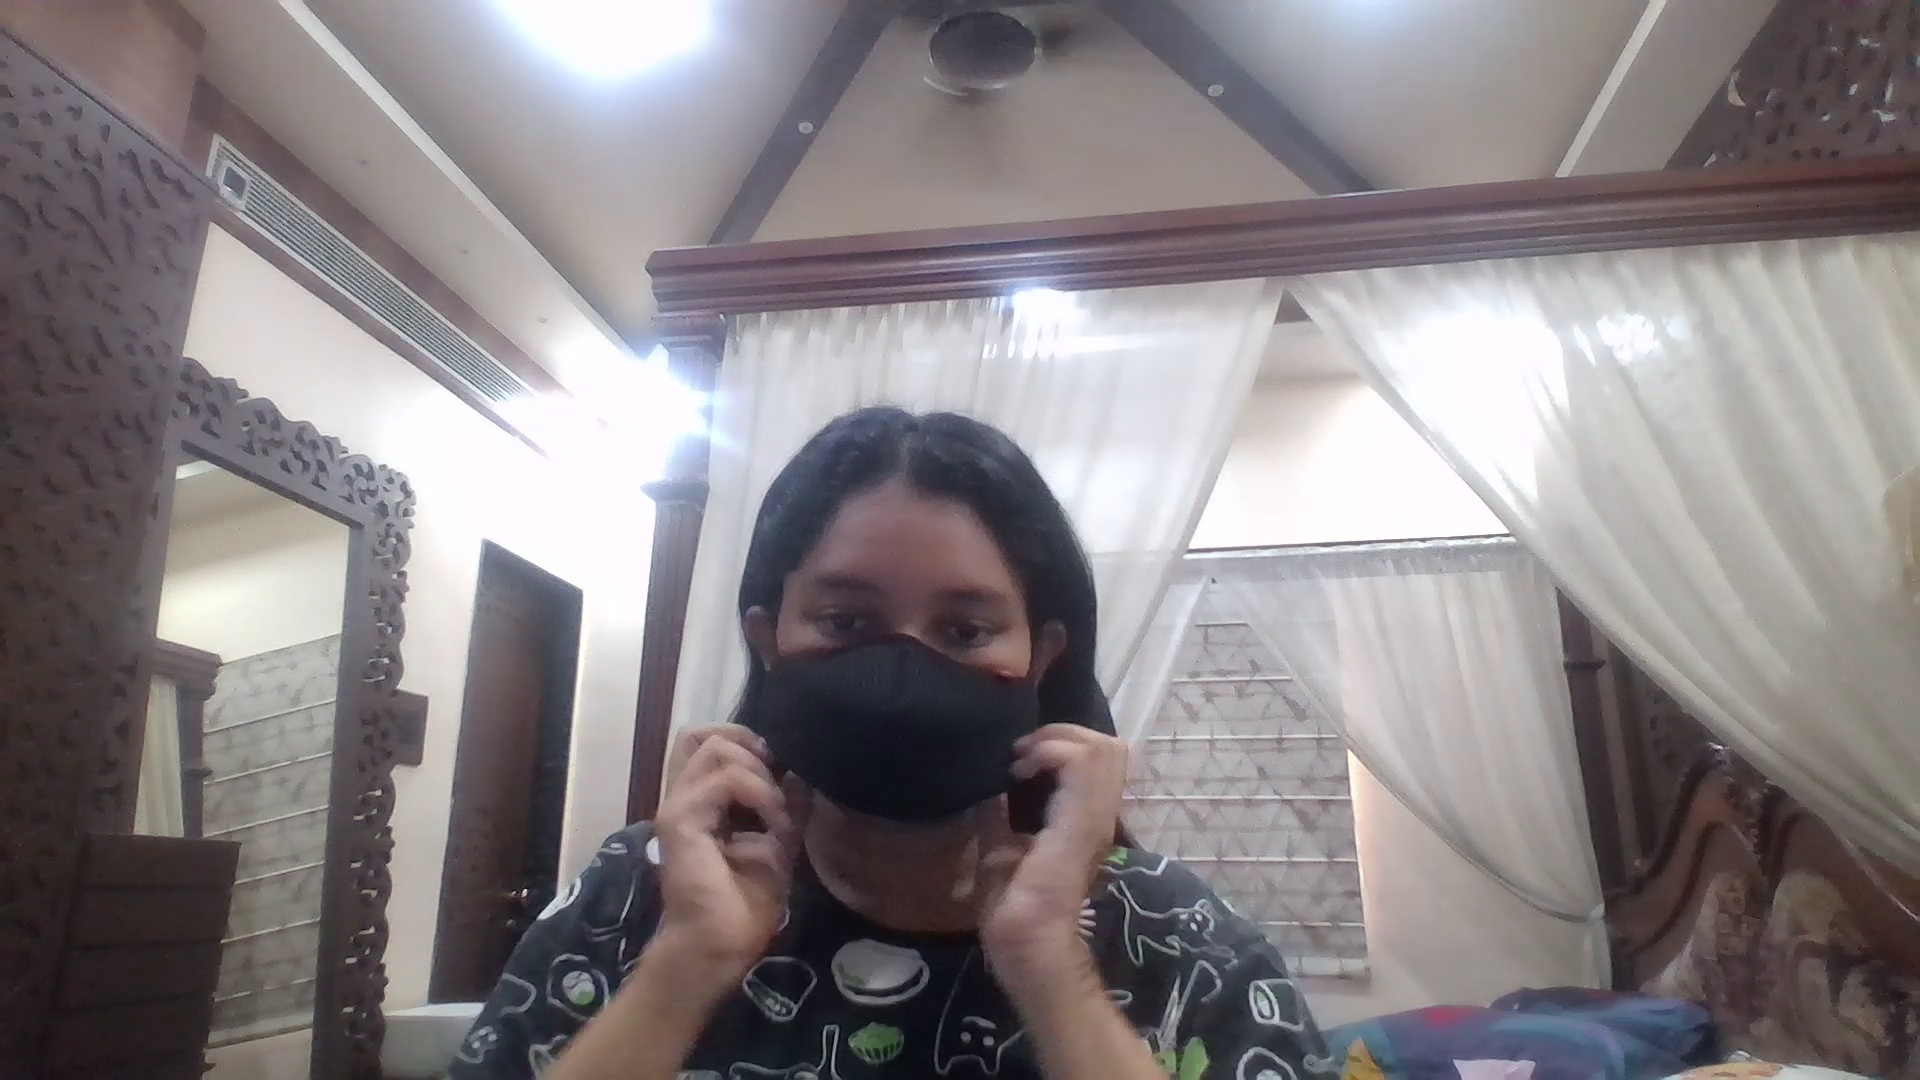Mask: (771, 645, 1018, 825)
